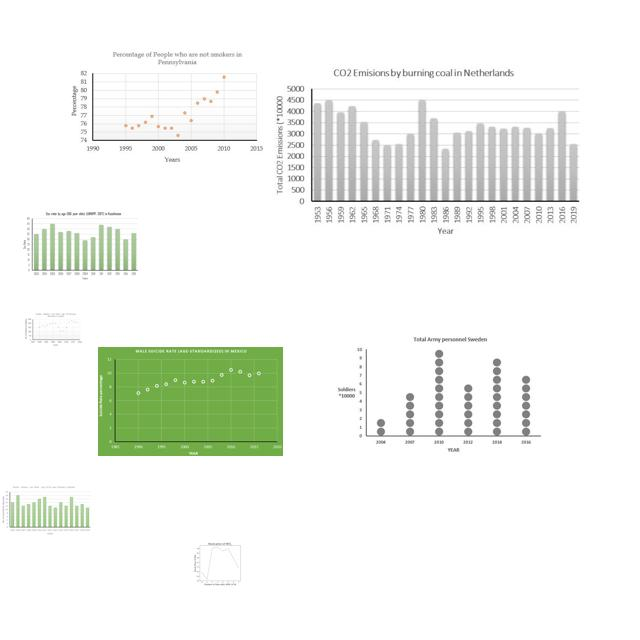Graph: (274, 67, 584, 238), (330, 332, 546, 458), (68, 48, 267, 165), (98, 347, 283, 456), (21, 210, 140, 281), (0, 484, 92, 536), (189, 540, 250, 586), (24, 312, 83, 347)
